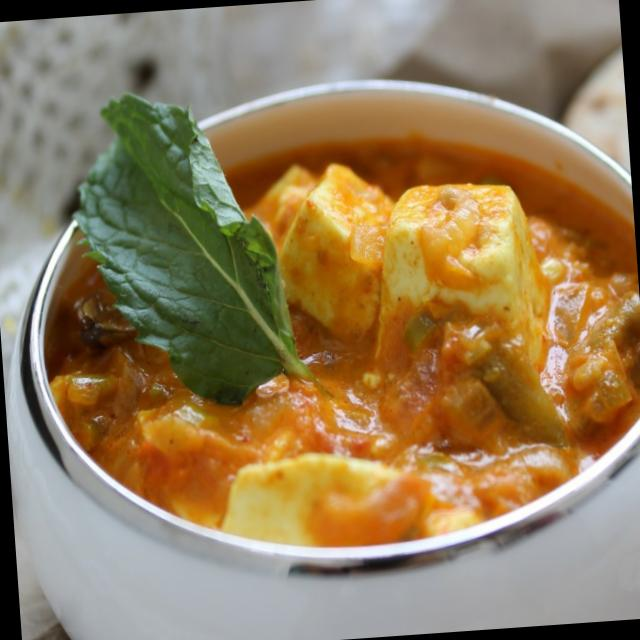ShahiPaneer: (39, 122, 640, 567)
